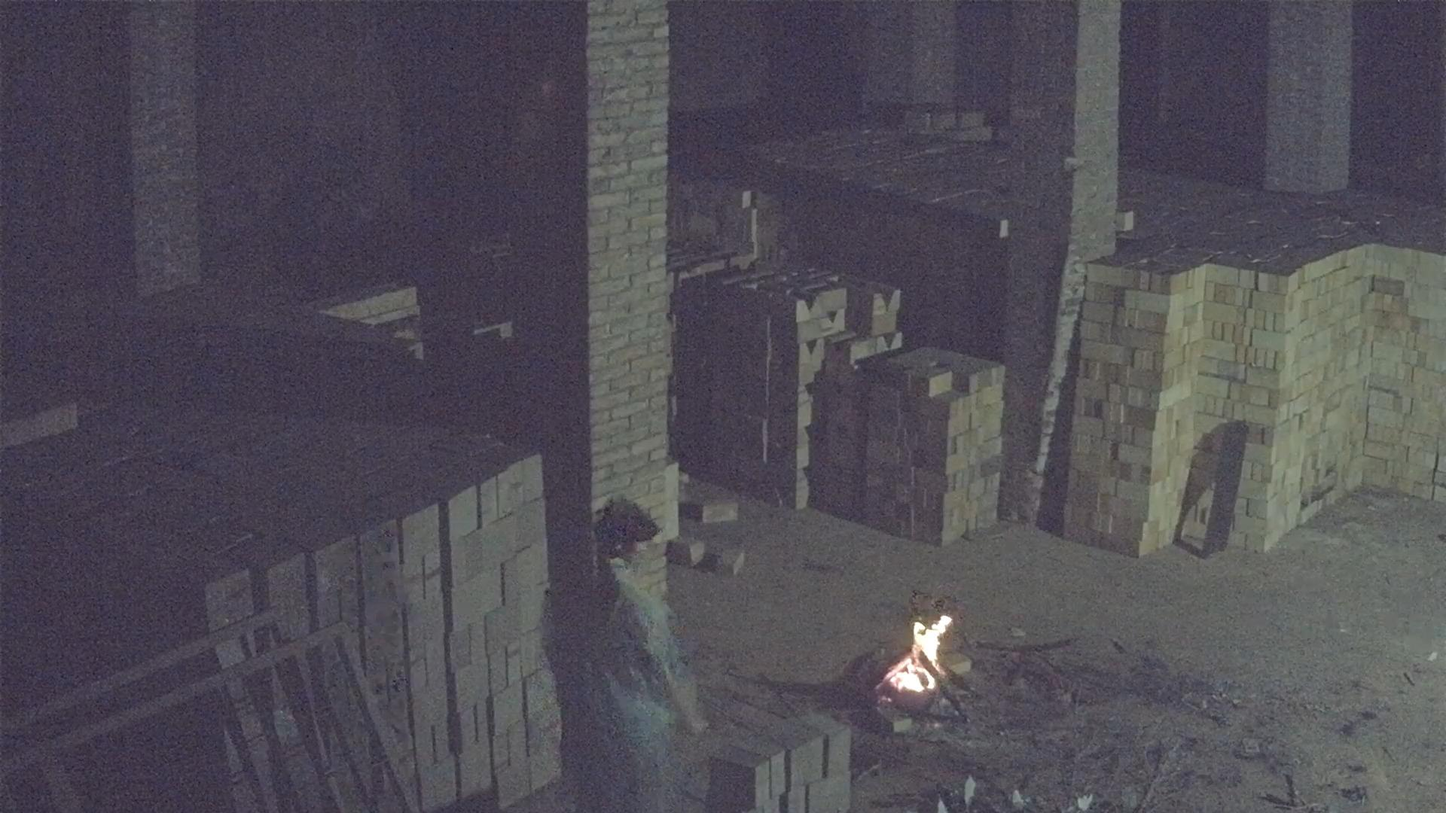fire: (876, 615, 953, 702)
